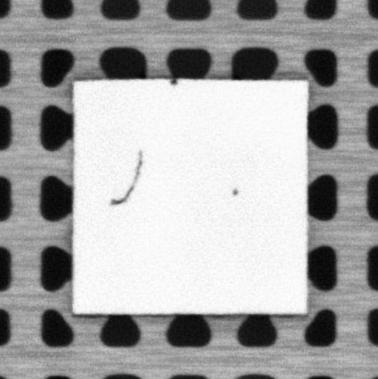DIE_INK: (109, 149, 144, 204), (168, 78, 181, 87), (230, 185, 239, 197)
